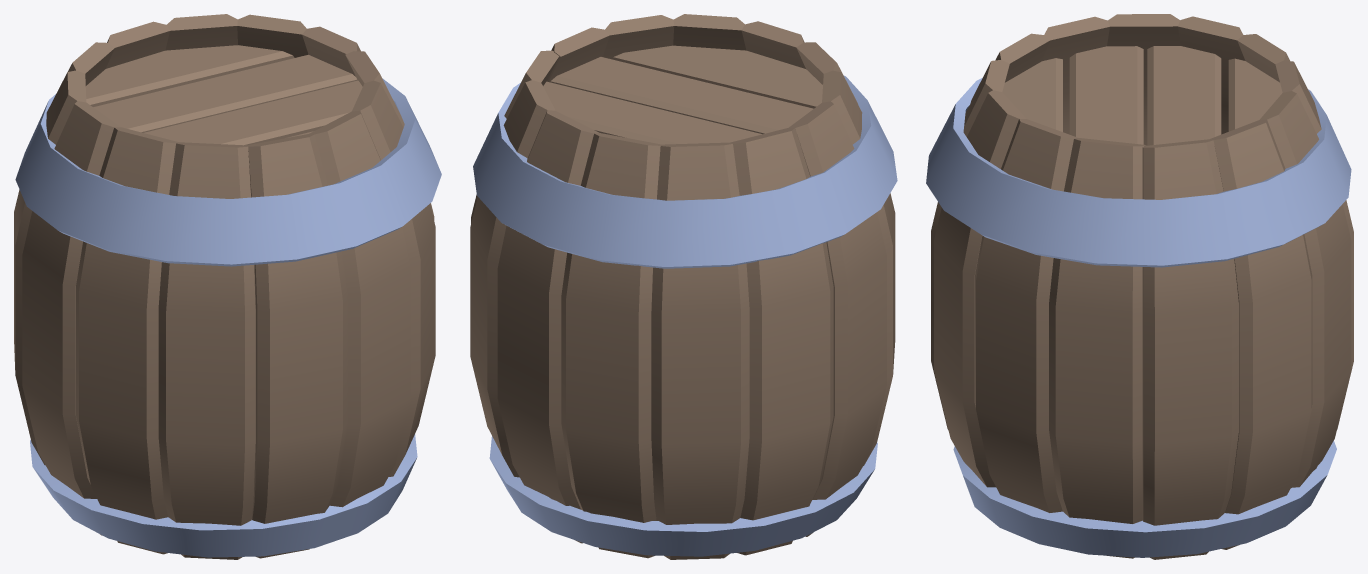
File: barrel blue.fbx
3 views of the same model, side by side, from view 1: azimuth 30°, elevation 25°; view 2: azimuth 150°, elevation 25°; view 3: azimuth 270°, elevation 25° (orthographic).
Visible parts, largest first — view 1: pasted__pasted__polySurface65; view 2: pasted__pasted__polySurface65; view 3: pasted__pasted__polySurface65.
Boxes of the visible parts, x1=… form: pasted__pasted__polySurface65: x1=14, y1=14, x2=441, y2=559; pasted__pasted__polySurface65: x1=470, y1=14, x2=897, y2=559; pasted__pasted__polySurface65: x1=926, y1=14, x2=1353, y2=559.
Size of the model in its own units: 1.56 by 1.67 by 1.57.
